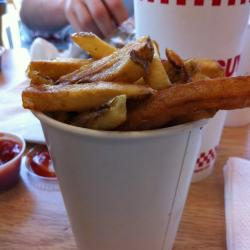fries: (28, 45, 238, 144)
